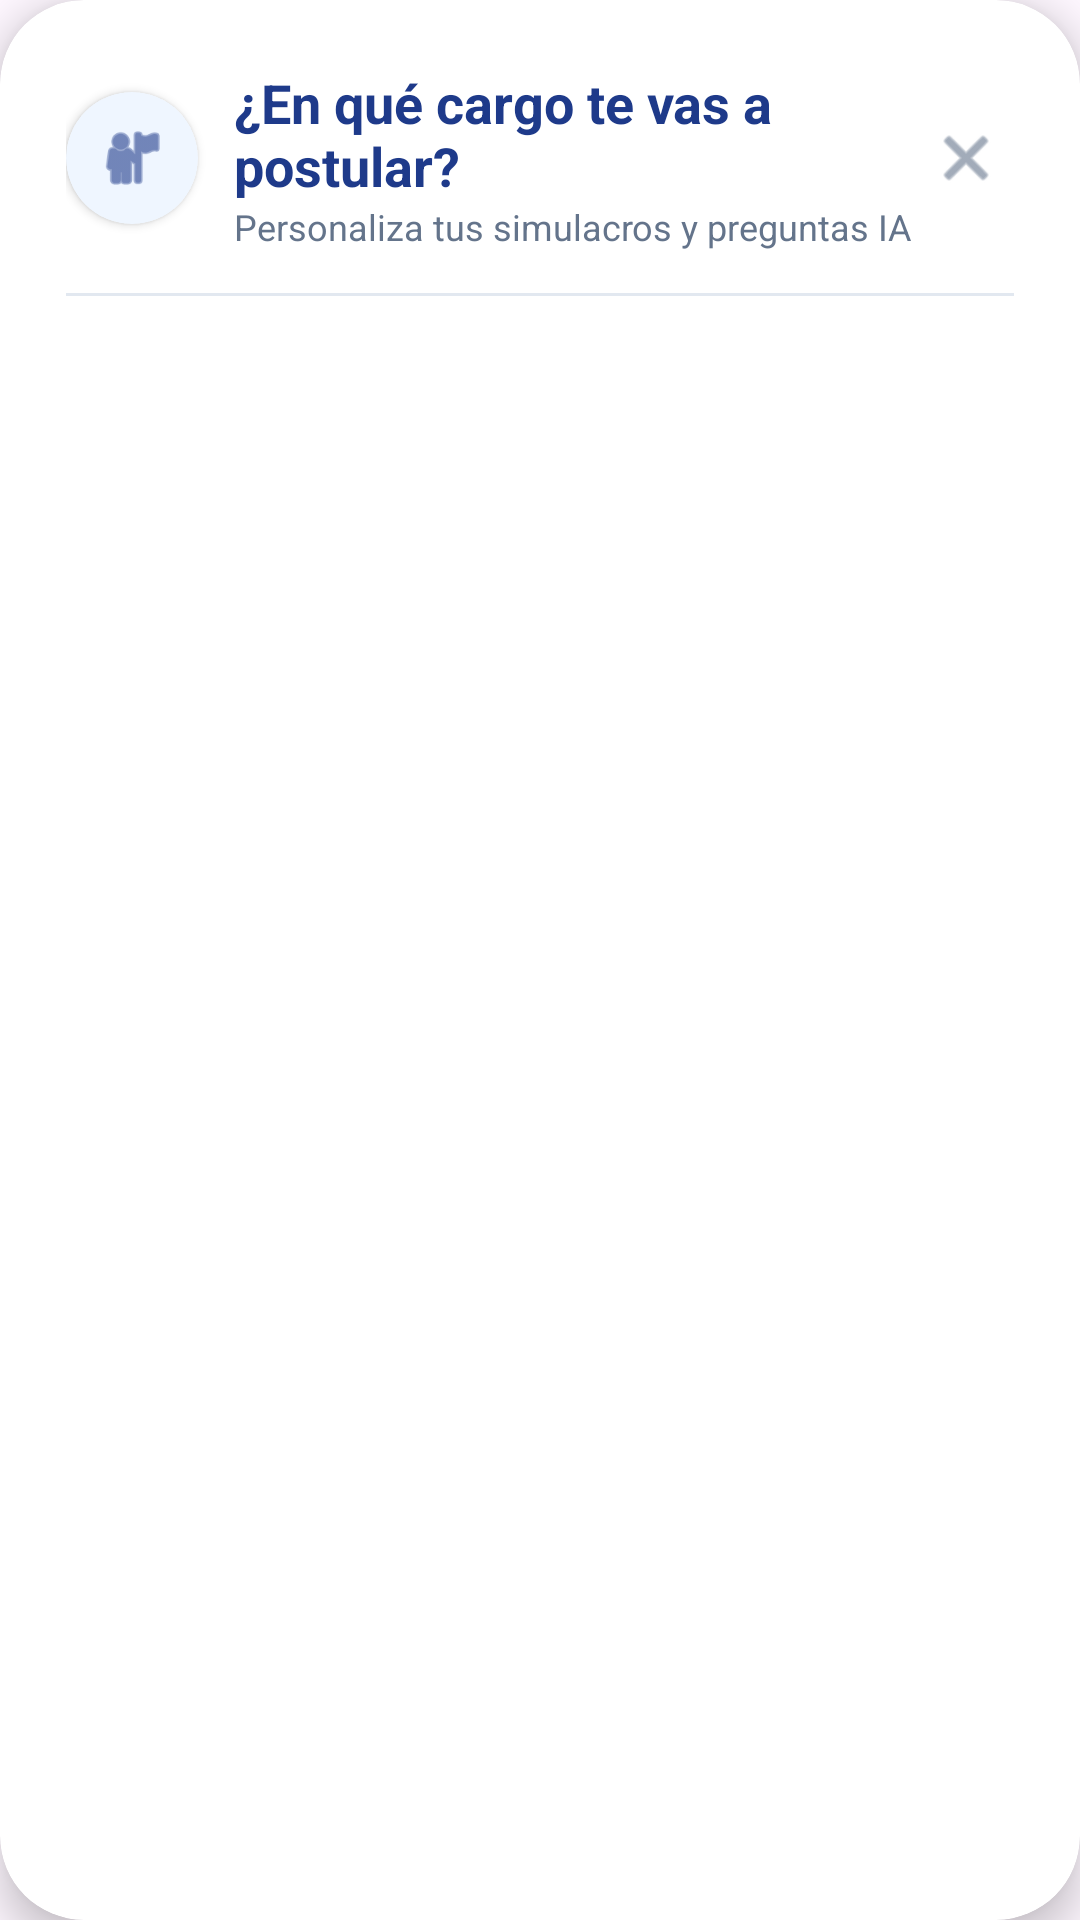

Locate icon controls on the screen. Image size 1080 x 1920, boxes as box=[x1, y1, x2, y2].
Cerrar: box=[944, 136, 988, 180]
